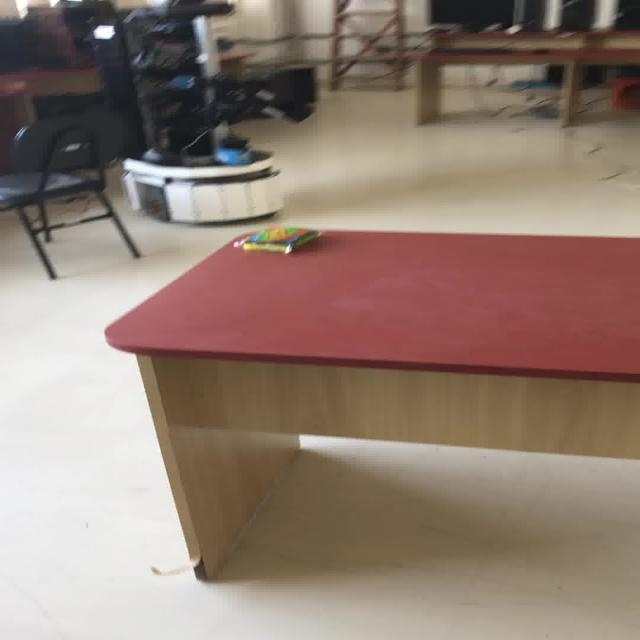sponge: (240, 224, 321, 254)
